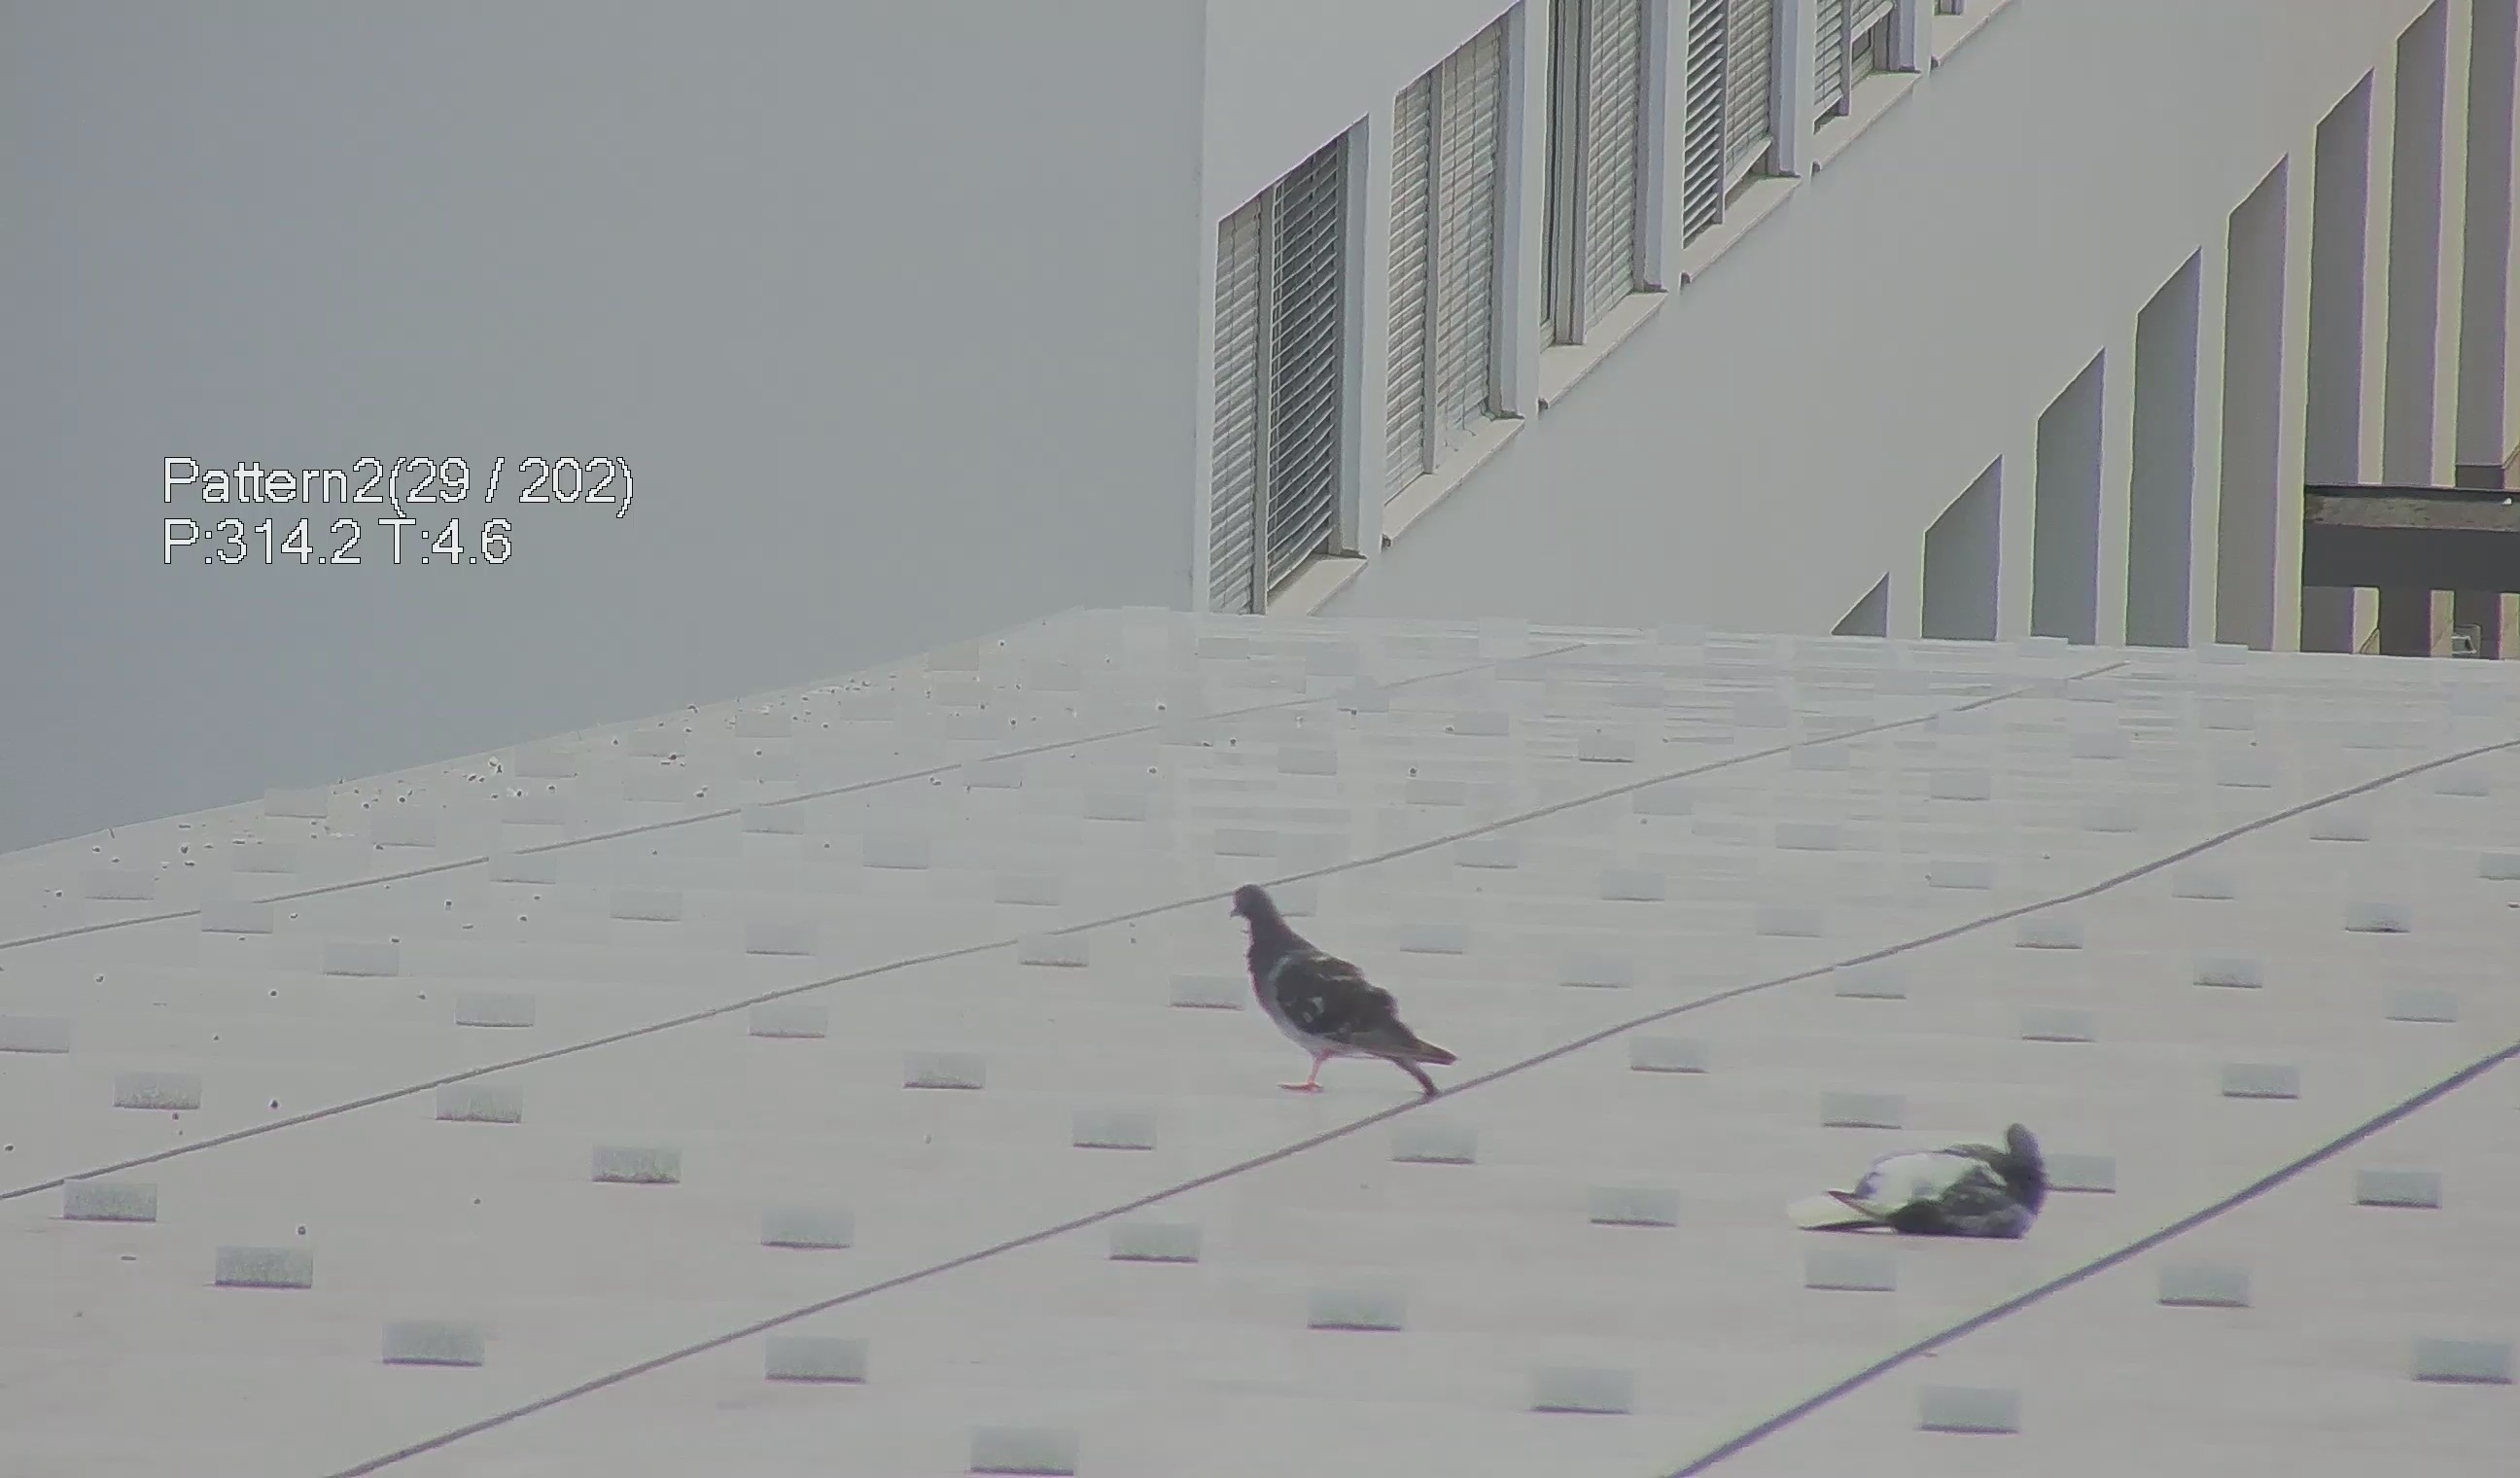Pigeon: (1208, 882, 1456, 1124), (1785, 1112, 2098, 1251)
